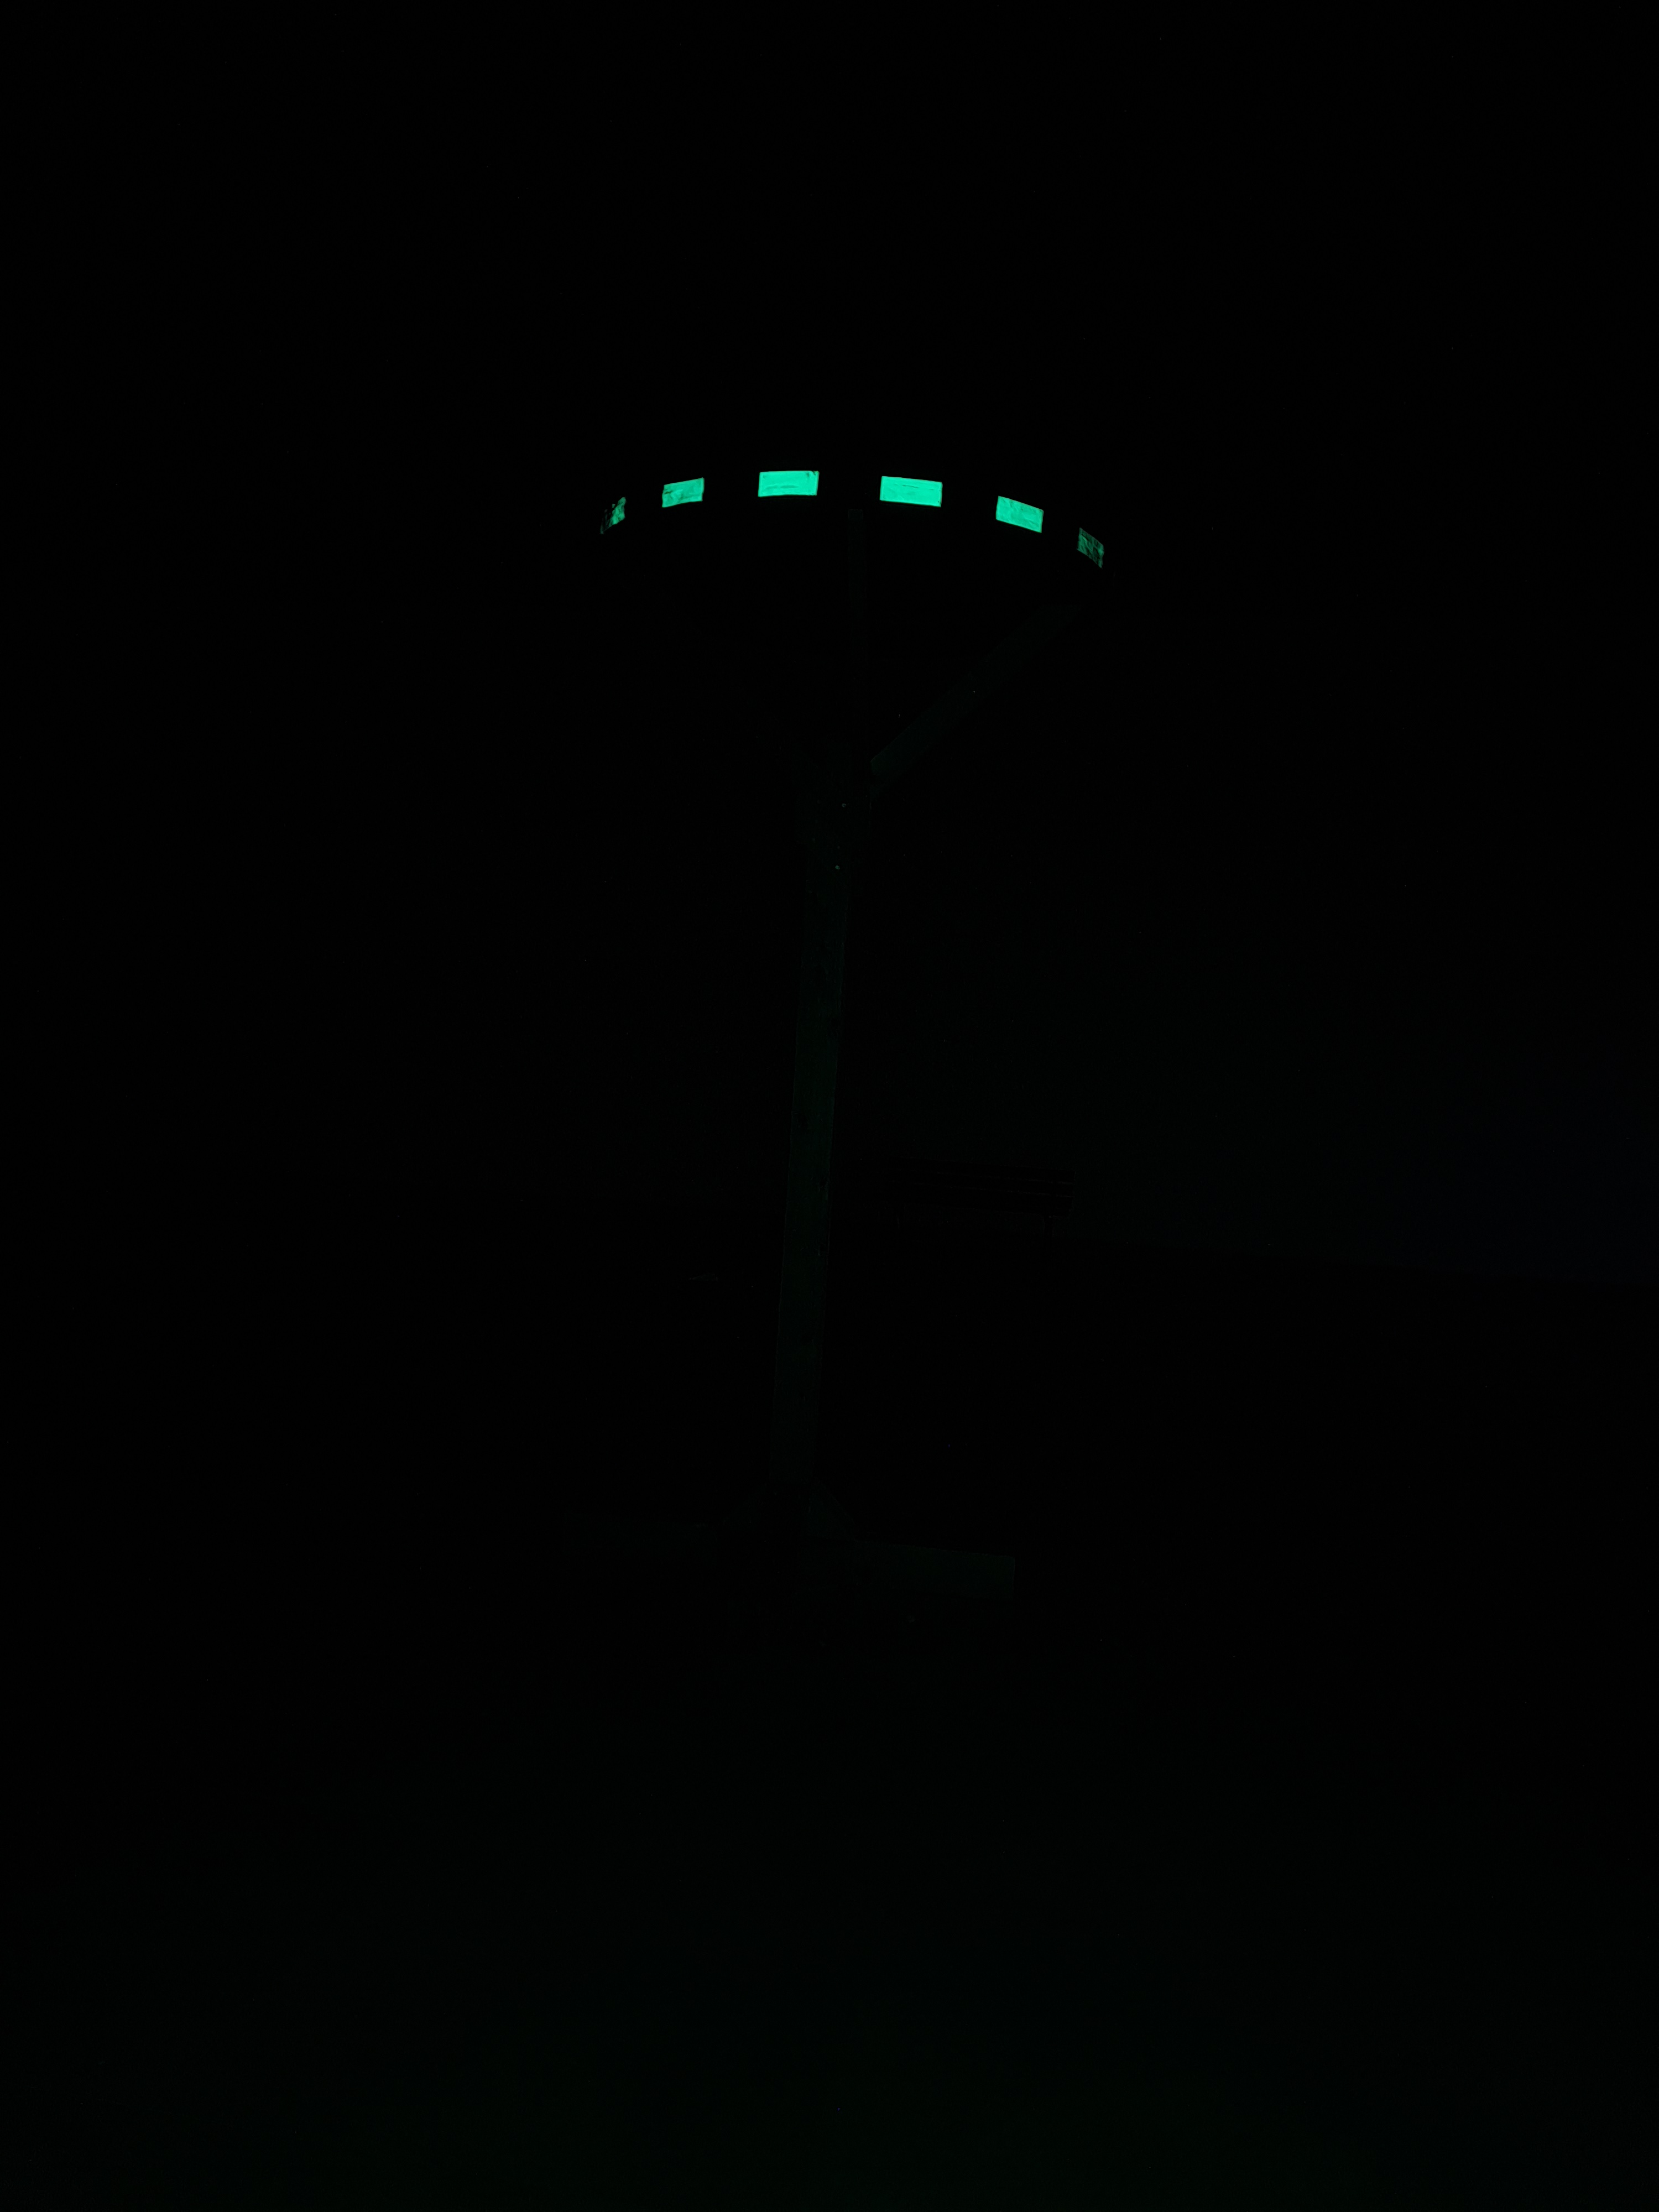hoop: (594, 467, 1110, 577)
